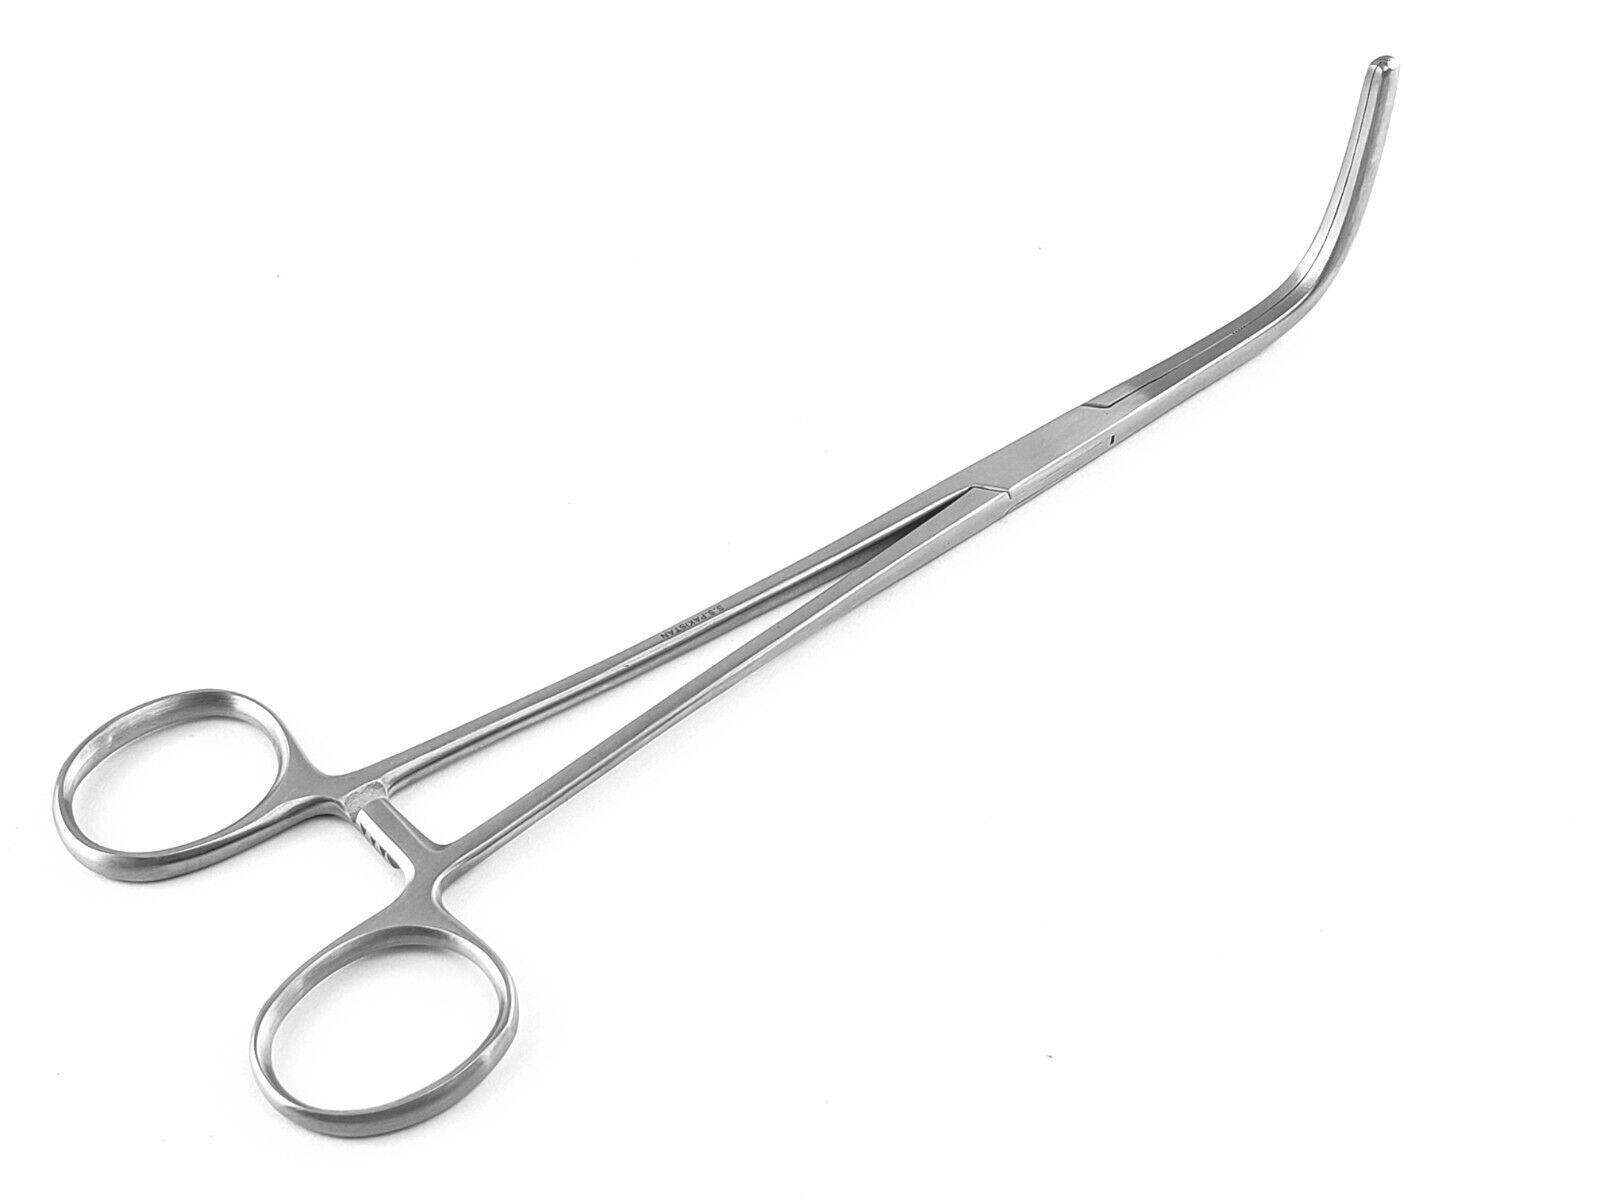Rectangle Cholecystectomy Forceps: (0, 50, 1424, 1147)
